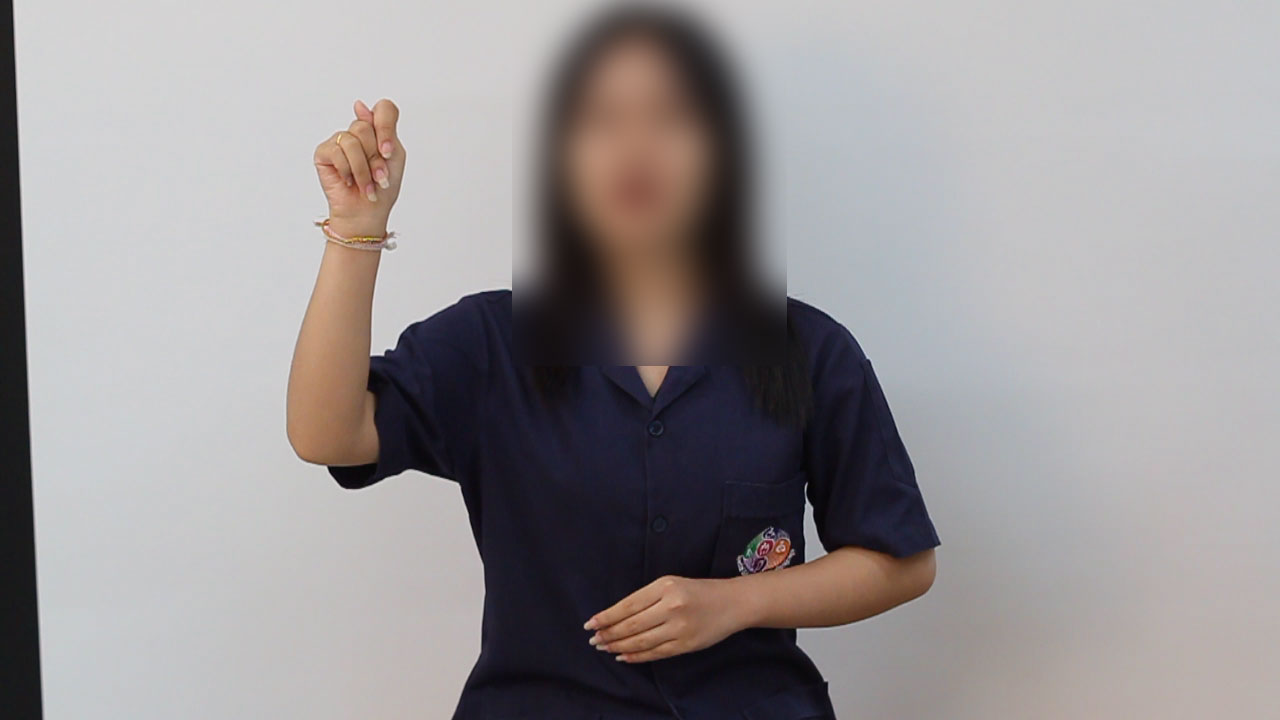tor: (301, 91, 427, 232)
